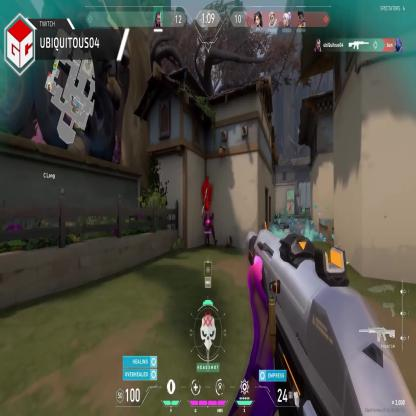enemy: (289, 202, 291, 213)
enemy_head: (289, 202, 291, 204)
